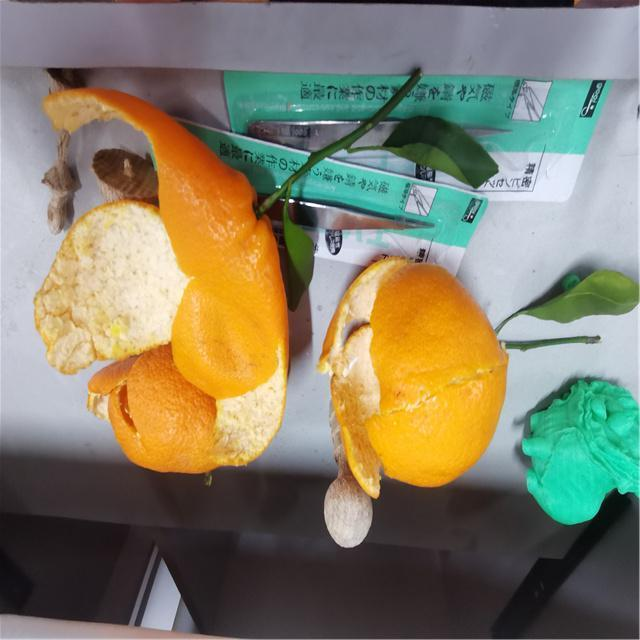orange peel: (30, 84, 289, 474), (319, 254, 507, 500)
